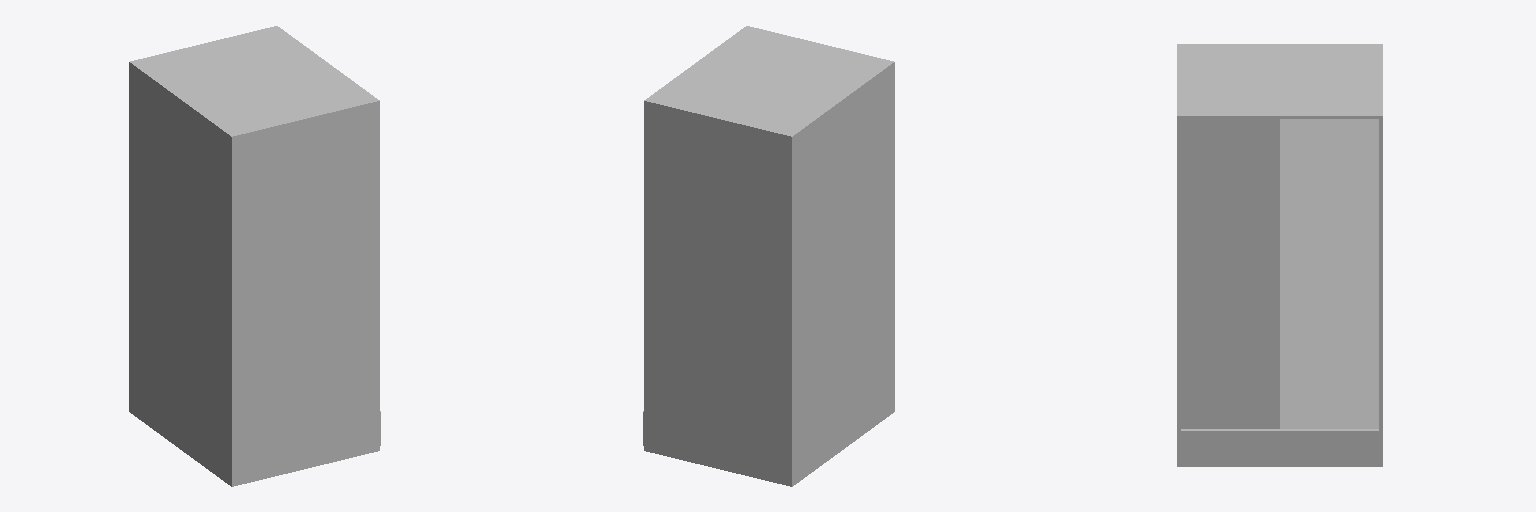
Rendered from wardrobe.obj.
3 views of the same model, side by side, from view 1: azimuth 30°, elevation 25°; view 2: azimuth 150°, elevation 25°; view 3: azimuth 270°, elevation 25° (orthographic).
Visible parts, largest first — view 1: Body_Cube.012, Bottom_Draw_Cube.013; view 2: Body_Cube.012, Bottom_Draw_Cube.013; view 3: Left_Door_Cube.014, Right_Door_Cube.015, Body_Cube.012, Bottom_Draw_Cube.013.
Boxes of the visible parts, box(x1,y1,x2,y2) form: Body_Cube.012: box(129, 26, 379, 486); Bottom_Draw_Cube.013: box(131, 380, 380, 480); Body_Cube.012: box(644, 26, 894, 486); Bottom_Draw_Cube.013: box(643, 380, 892, 481); Left_Door_Cube.014: box(1181, 119, 1279, 428); Right_Door_Cube.015: box(1280, 119, 1378, 428); Body_Cube.012: box(1177, 44, 1382, 466); Bottom_Draw_Cube.013: box(1181, 429, 1378, 464).
Bounding box in the file's own units: 5.1 × 11.3 × 6.